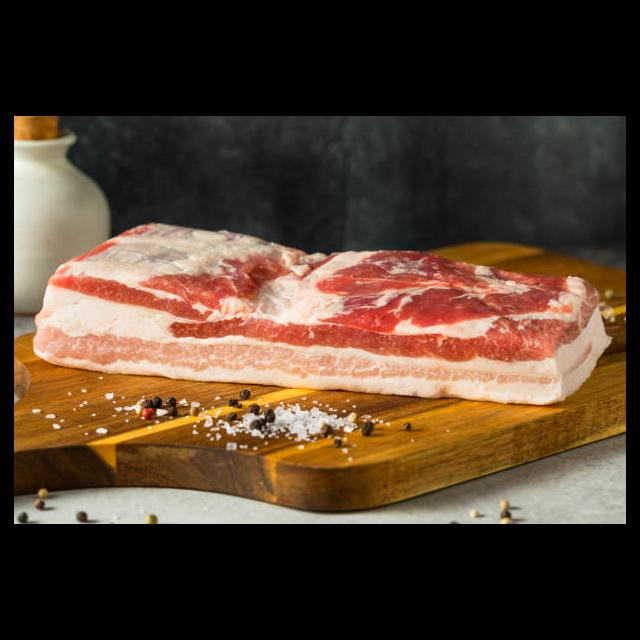pork: (297, 246, 607, 404), (42, 217, 296, 386)
